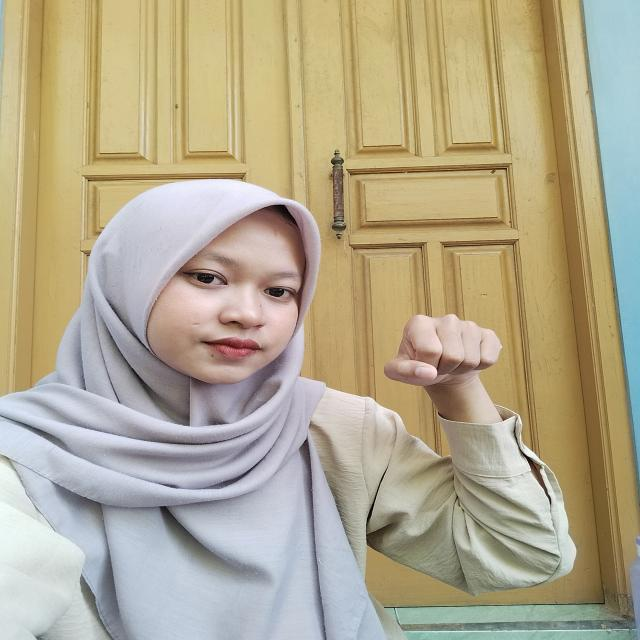baik: (365, 298, 526, 450)
